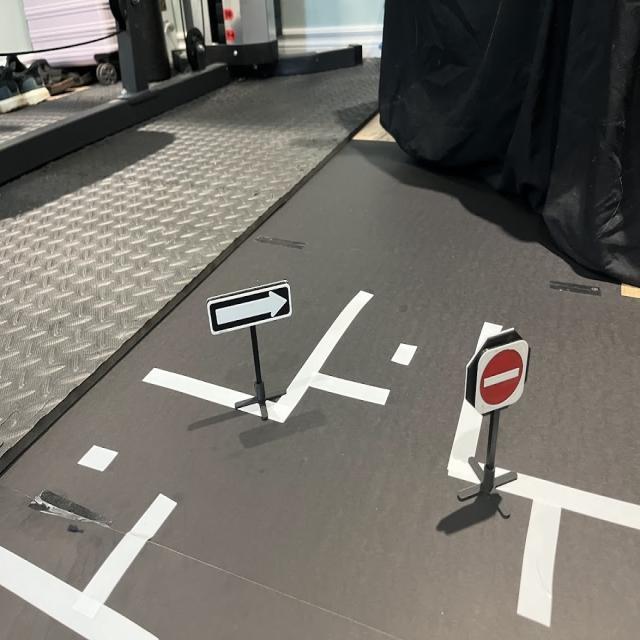sign_noentry: (474, 334, 529, 416)
sign_oneway_right: (207, 279, 296, 340)
